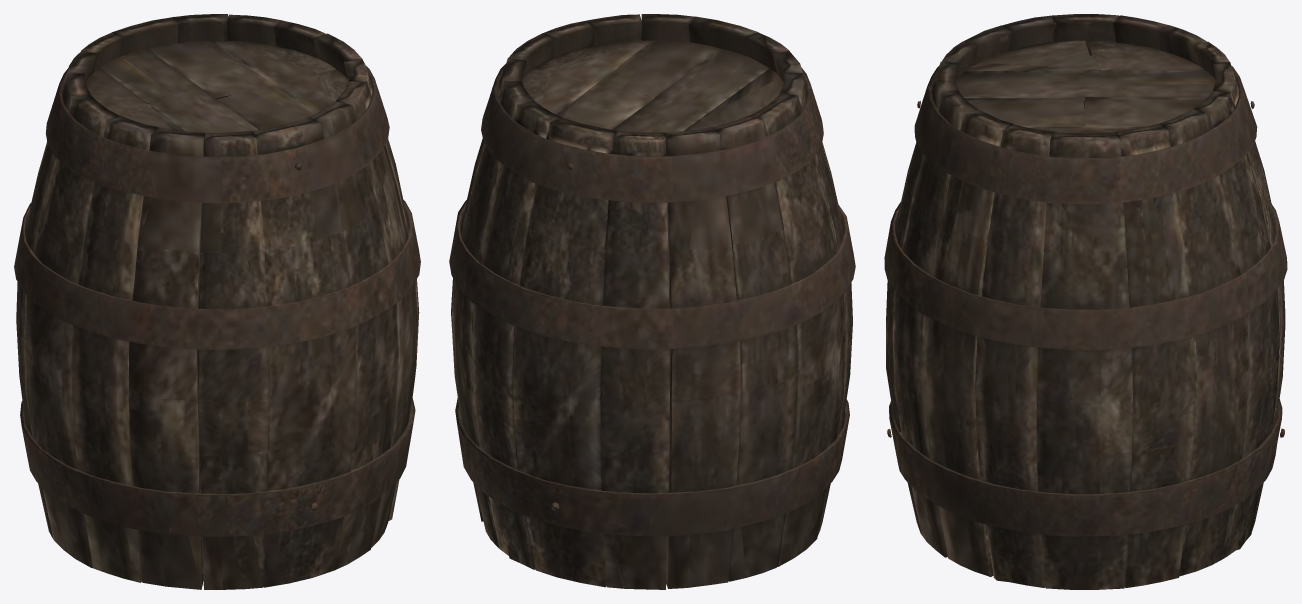
Rendered from d_barrel_large.glb.
3 views of the same model, side by side, from view 1: azimuth 30°, elevation 25°; view 2: azimuth 150°, elevation 25°; view 3: azimuth 270°, elevation 25° (orthographic).
Visible parts, largest first — view 1: d_barrel_large; view 2: d_barrel_large; view 3: d_barrel_large.
Part boxes in pixels (left/top/right/bottom): d_barrel_large: left=14, top=14, right=420, bottom=589; d_barrel_large: left=449, top=14, right=855, bottom=589; d_barrel_large: left=884, top=14, right=1287, bottom=589.
Bounding box in the file's own units: 1.68 × 2 × 1.66.
Materials: 1 (1 with a texture image).
